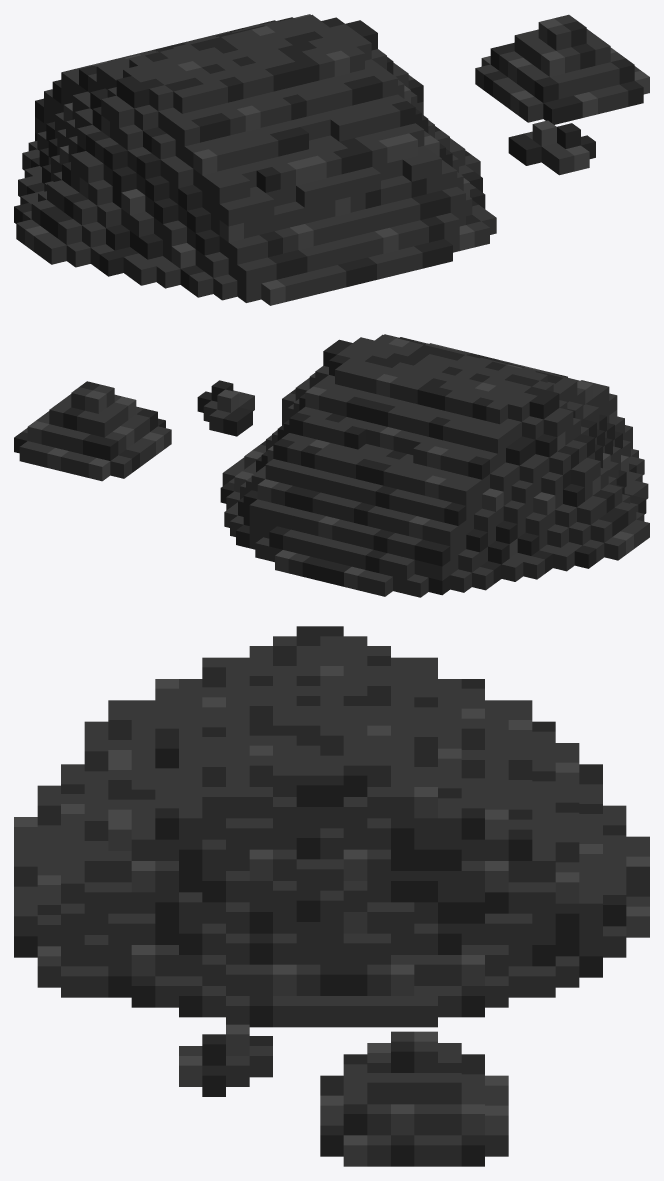
Rendered from roca.obj.
The picture shows the model from 3 angles, top to bottom: view 1: azimuth 30°, elevation 25°; view 2: azimuth 150°, elevation 25°; view 3: azimuth 270°, elevation 25°; orthographic projection. The views are drawn at different scales.
Bounding box in the file's own units: 4.1 × 0.9 × 2.7.
1 material, 1 textured.
